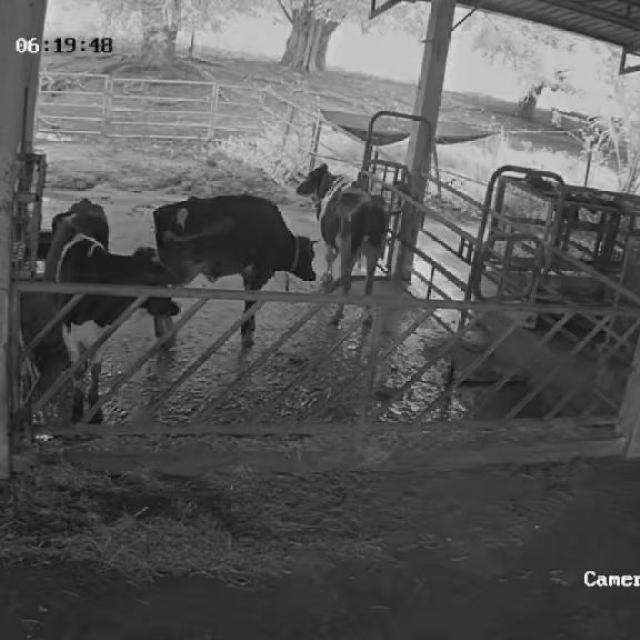standing: (45, 195, 181, 436), (151, 197, 318, 350), (298, 166, 391, 334)
